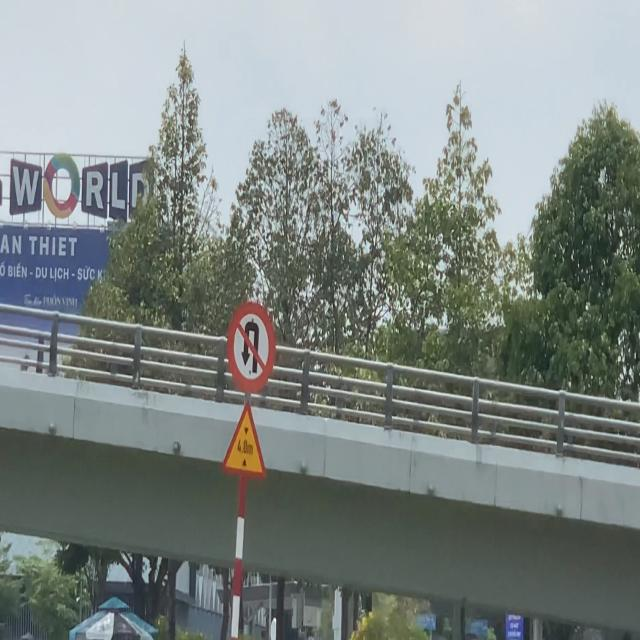Cam quay dau xe: (226, 302, 276, 394)
Nguy hiem: (219, 397, 269, 483)
